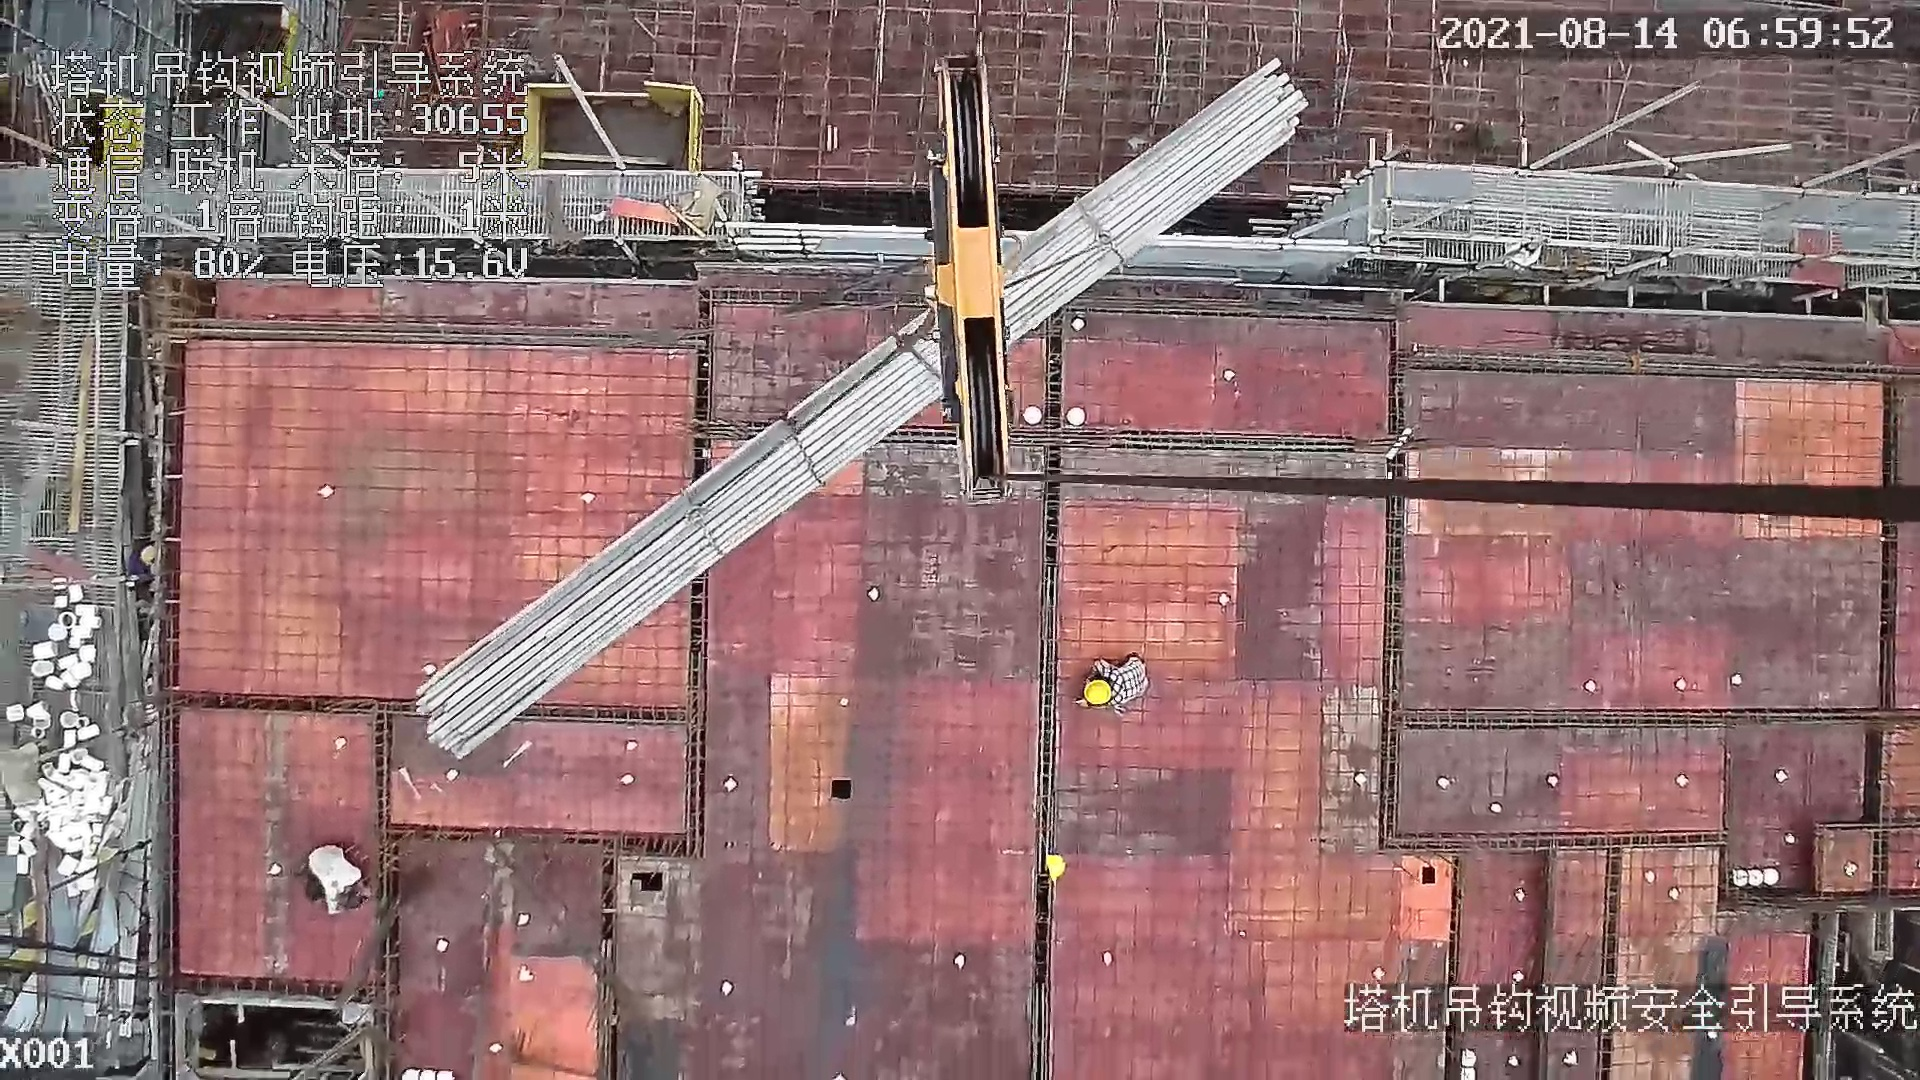helmet: (1083, 680, 1110, 705), (1044, 852, 1067, 882)
hook: (917, 51, 1022, 523)
person: (1073, 650, 1158, 719), (302, 844, 373, 918)
rebar: (409, 60, 1305, 761)
